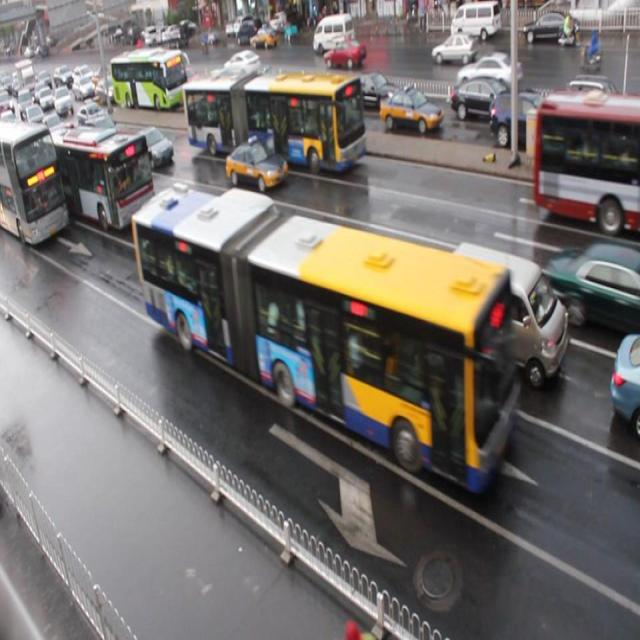car: (300, 229, 403, 321), (489, 92, 564, 156), (140, 188, 208, 252), (224, 138, 288, 190), (608, 330, 640, 432), (567, 79, 628, 132), (378, 86, 442, 134), (448, 78, 510, 122), (270, 84, 315, 129), (345, 70, 393, 111), (252, 69, 294, 111), (22, 160, 62, 204), (132, 127, 174, 167), (80, 117, 122, 152), (196, 82, 233, 118), (206, 68, 241, 99), (78, 100, 108, 130)
truck: (438, 240, 568, 389), (215, 188, 290, 284)
van: (132, 185, 522, 499), (181, 69, 368, 174), (532, 92, 640, 232), (38, 127, 154, 235), (1, 120, 69, 250), (111, 49, 186, 110)
